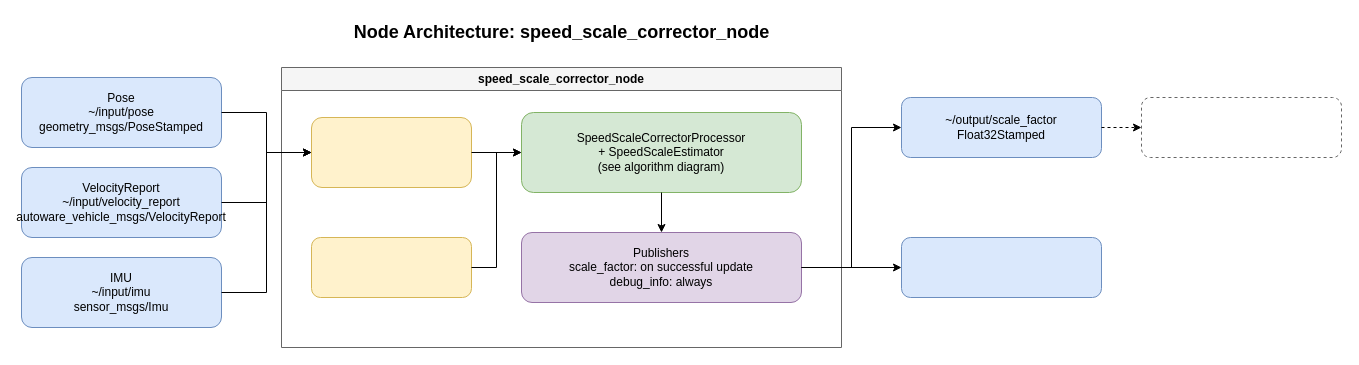
Image size: 1359x365. Some labels were removed from this diagram. The shapes that lost their labels are listed below. From the top down, each one's centre as x and y in pixels, then its label:
point 1241,127: autoware_vehicle_velocity_converter monitor / tune speed scale
point 391,152: Polling subscribers pose / velocity_report / imu
point 391,267: Timer update_interval
point 1001,267: ~/output/debug_info StringStamped
